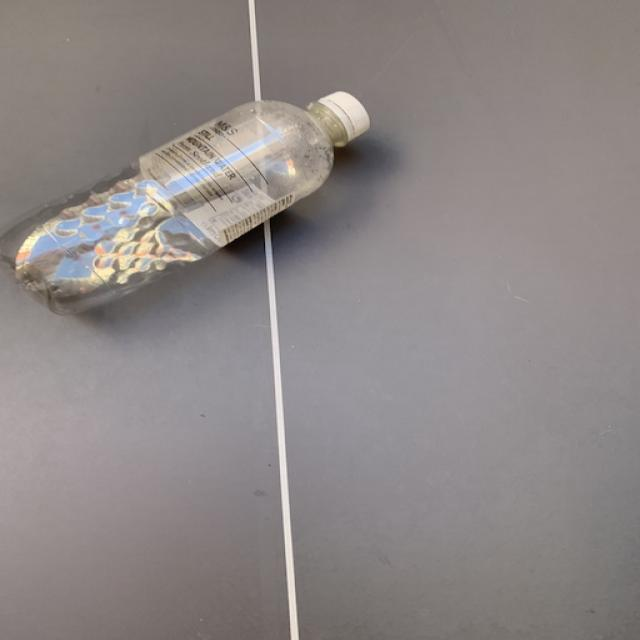Waste: (1, 92, 370, 313)
